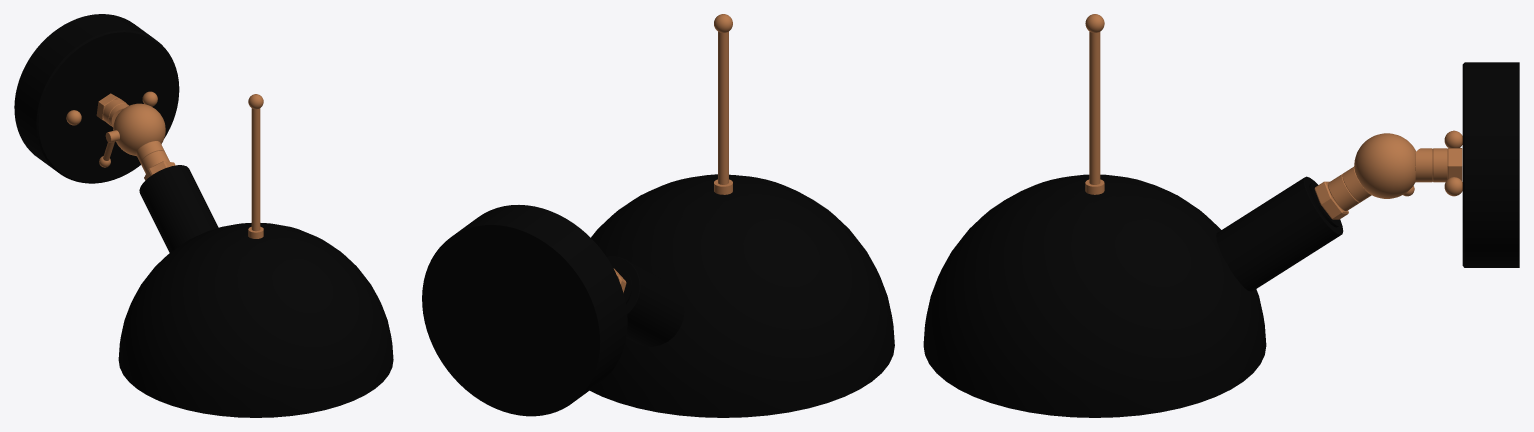
The model's file is Light Work_FBX.fbx.
3 views of the same model, side by side, from view 1: azimuth 30°, elevation 25°; view 2: azimuth 150°, elevation 25°; view 3: azimuth 270°, elevation 25° (orthographic). The views are drawn at different scales.
Parts seen in each view (by area): view 1: Wall Lamp; view 2: Wall Lamp; view 3: Wall Lamp.
Part boxes in pixels (left/top/right/bottom): Wall Lamp: left=14, top=14, right=393, bottom=417; Wall Lamp: left=422, top=14, right=894, bottom=417; Wall Lamp: left=923, top=14, right=1519, bottom=417.
Size of the model in its own units: 12.5 by 13.94 by 21.73.
